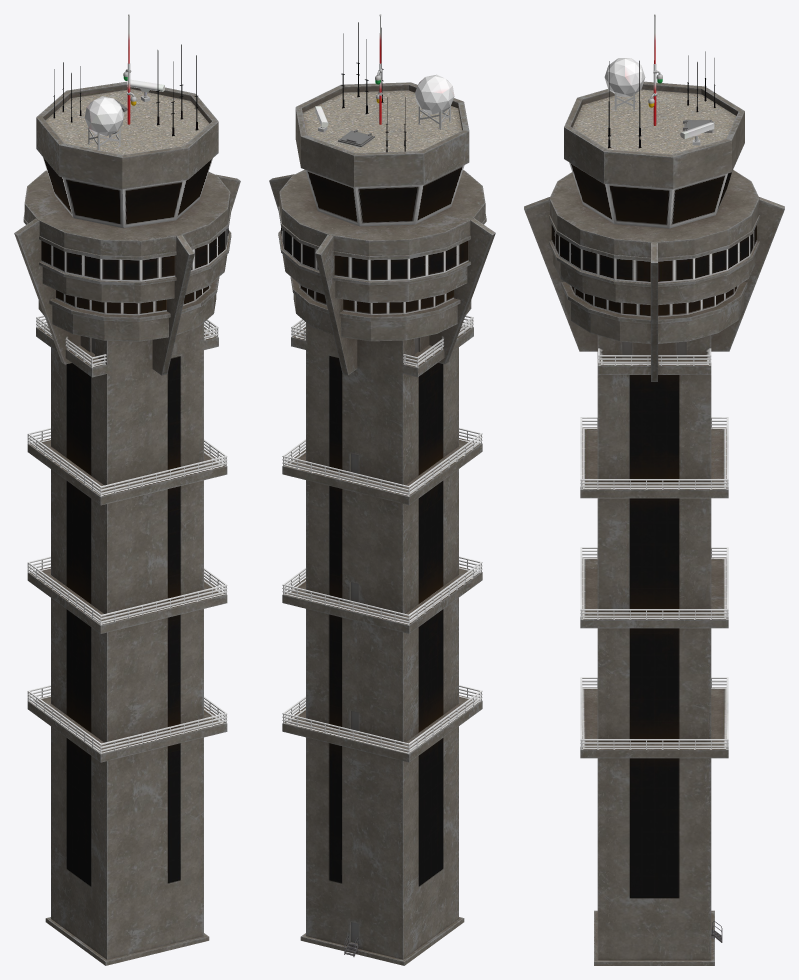
The model's file is tower.obj.
3 views of the same model, side by side, from view 1: azimuth 30°, elevation 25°; view 2: azimuth 150°, elevation 25°; view 3: azimuth 270°, elevation 25° (orthographic).
Parts seen in each view (by area): view 1: ac0ab9894e7e957450c.fbx/RootNode/Tower/Tower_AirTower01MAT_0, fbx/RootNode/ObservationDeck/ObservationDeck_AirTower01MAT_0, fbx/RootNode/Tower/TowerWindows/TowerWindows_AirTower01MAT_0, 4e7e957450c.fbx/RootNode/Platforms/Platforms_AirTower01MAT_0, 50c.fbx/RootNode/Platforms/Cube.003/Cube.003_AirTower01MAT_0, b9894e7e957450c.fbx/RootNode/Windows/Windows_AirTower01MAT_0, 74ac0ab9894e7e957450c.fbx/RootNode/Fins/Fins_AirTower01MAT_0, 4e7e957450c.fbx/RootNode/Icosphere/Icosphere_AirTower01MAT_0, 74ac0ab9894e7e957450c.fbx/RootNode/Base/Base_AirTower01MAT_0, 7e957450c.fbx/RootNode/UpperRails/UpperRails_AirTower01MAT_0, 7450c.fbx/RootNode/Cylinder.003/Cylinder.003_AirTower01MAT_0; view 2: ac0ab9894e7e957450c.fbx/RootNode/Tower/Tower_AirTower01MAT_0, fbx/RootNode/ObservationDeck/ObservationDeck_AirTower01MAT_0, fbx/RootNode/Tower/TowerWindows/TowerWindows_AirTower01MAT_0, 4e7e957450c.fbx/RootNode/Platforms/Platforms_AirTower01MAT_0, 50c.fbx/RootNode/Platforms/Cube.003/Cube.003_AirTower01MAT_0, b9894e7e957450c.fbx/RootNode/Windows/Windows_AirTower01MAT_0, 74ac0ab9894e7e957450c.fbx/RootNode/Fins/Fins_AirTower01MAT_0, 4e7e957450c.fbx/RootNode/Icosphere/Icosphere_AirTower01MAT_0, 74ac0ab9894e7e957450c.fbx/RootNode/Base/Base_AirTower01MAT_0, 7e957450c.fbx/RootNode/UpperRails/UpperRails_AirTower01MAT_0; view 3: ac0ab9894e7e957450c.fbx/RootNode/Tower/Tower_AirTower01MAT_0, fbx/RootNode/ObservationDeck/ObservationDeck_AirTower01MAT_0, fbx/RootNode/Tower/TowerWindows/TowerWindows_AirTower01MAT_0, 4e7e957450c.fbx/RootNode/Platforms/Platforms_AirTower01MAT_0, b9894e7e957450c.fbx/RootNode/Windows/Windows_AirTower01MAT_0, 74ac0ab9894e7e957450c.fbx/RootNode/Fins/Fins_AirTower01MAT_0, 50c.fbx/RootNode/Platforms/Cube.003/Cube.003_AirTower01MAT_0, 4e7e957450c.fbx/RootNode/Icosphere/Icosphere_AirTower01MAT_0, 74ac0ab9894e7e957450c.fbx/RootNode/Base/Base_AirTower01MAT_0, 7e957450c.fbx/RootNode/UpperRails/UpperRails_AirTower01MAT_0.
Boxes of the visible parts, box(x1,y1,x2,y2) form: ac0ab9894e7e957450c.fbx/RootNode/Tower/Tower_AirTower01MAT_0: box(36, 323, 218, 959); fbx/RootNode/ObservationDeck/ObservationDeck_AirTower01MAT_0: box(23, 81, 231, 341); fbx/RootNode/Tower/TowerWindows/TowerWindows_AirTower01MAT_0: box(66, 356, 180, 886); 4e7e957450c.fbx/RootNode/Platforms/Platforms_AirTower01MAT_0: box(27, 438, 227, 762); 50c.fbx/RootNode/Platforms/Cube.003/Cube.003_AirTower01MAT_0: box(27, 428, 227, 753); b9894e7e957450c.fbx/RootNode/Windows/Windows_AirTower01MAT_0: box(41, 228, 228, 315); 74ac0ab9894e7e957450c.fbx/RootNode/Fins/Fins_AirTower01MAT_0: box(14, 174, 240, 375); 4e7e957450c.fbx/RootNode/Icosphere/Icosphere_AirTower01MAT_0: box(84, 96, 124, 136); 74ac0ab9894e7e957450c.fbx/RootNode/Base/Base_AirTower01MAT_0: box(45, 917, 209, 965); 7e957450c.fbx/RootNode/UpperRails/UpperRails_AirTower01MAT_0: box(36, 315, 218, 367); 7450c.fbx/RootNode/Cylinder.003/Cylinder.003_AirTower01MAT_0: box(156, 44, 198, 136); ac0ab9894e7e957450c.fbx/RootNode/Tower/Tower_AirTower01MAT_0: box(291, 322, 473, 959); fbx/RootNode/ObservationDeck/ObservationDeck_AirTower01MAT_0: box(278, 82, 486, 341); fbx/RootNode/Tower/TowerWindows/TowerWindows_AirTower01MAT_0: box(329, 355, 443, 886); 4e7e957450c.fbx/RootNode/Platforms/Platforms_AirTower01MAT_0: box(282, 438, 482, 762); 50c.fbx/RootNode/Platforms/Cube.003/Cube.003_AirTower01MAT_0: box(282, 428, 482, 753); b9894e7e957450c.fbx/RootNode/Windows/Windows_AirTower01MAT_0: box(281, 227, 468, 314); 74ac0ab9894e7e957450c.fbx/RootNode/Fins/Fins_AirTower01MAT_0: box(269, 174, 495, 375); 4e7e957450c.fbx/RootNode/Icosphere/Icosphere_AirTower01MAT_0: box(415, 74, 454, 114); 74ac0ab9894e7e957450c.fbx/RootNode/Base/Base_AirTower01MAT_0: box(300, 917, 464, 965); 7e957450c.fbx/RootNode/UpperRails/UpperRails_AirTower01MAT_0: box(291, 315, 473, 367); ac0ab9894e7e957450c.fbx/RootNode/Tower/Tower_AirTower01MAT_0: box(597, 335, 711, 960); fbx/RootNode/ObservationDeck/ObservationDeck_AirTower01MAT_0: box(549, 81, 759, 343); fbx/RootNode/Tower/TowerWindows/TowerWindows_AirTower01MAT_0: box(629, 375, 679, 898); 4e7e957450c.fbx/RootNode/Platforms/Platforms_AirTower01MAT_0: box(580, 427, 728, 758); b9894e7e957450c.fbx/RootNode/Windows/Windows_AirTower01MAT_0: box(551, 224, 756, 317); 74ac0ab9894e7e957450c.fbx/RootNode/Fins/Fins_AirTower01MAT_0: box(524, 197, 784, 381); 50c.fbx/RootNode/Platforms/Cube.003/Cube.003_AirTower01MAT_0: box(580, 417, 728, 749); 4e7e957450c.fbx/RootNode/Icosphere/Icosphere_AirTower01MAT_0: box(604, 58, 645, 96); 74ac0ab9894e7e957450c.fbx/RootNode/Base/Base_AirTower01MAT_0: box(594, 910, 714, 965); 7e957450c.fbx/RootNode/UpperRails/UpperRails_AirTower01MAT_0: box(598, 348, 711, 365).
Bounding box in the file's own units: 7.65 × 30 × 7.65.
1 material, 1 textured.
